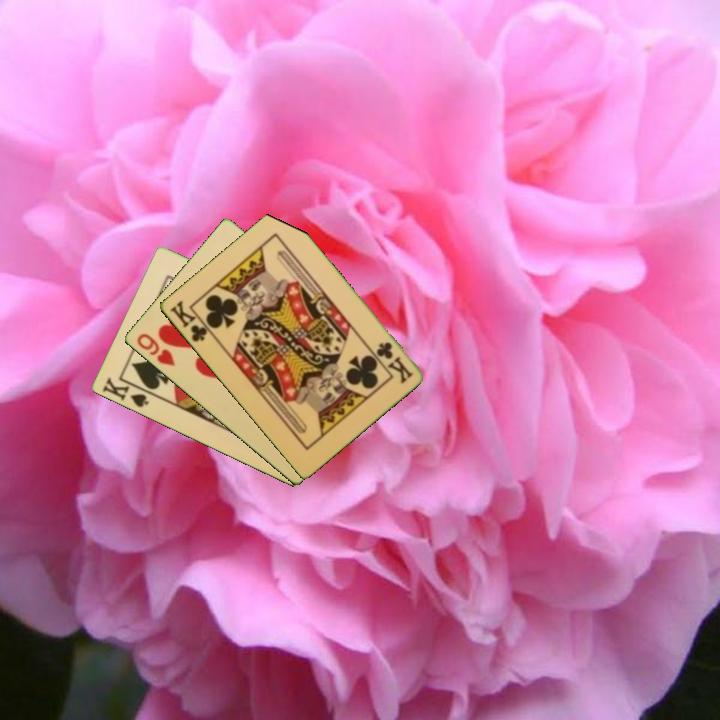9h: (133, 330, 178, 369)
Kc: (166, 297, 215, 345), (372, 338, 416, 386)
Ks: (98, 374, 151, 411)
